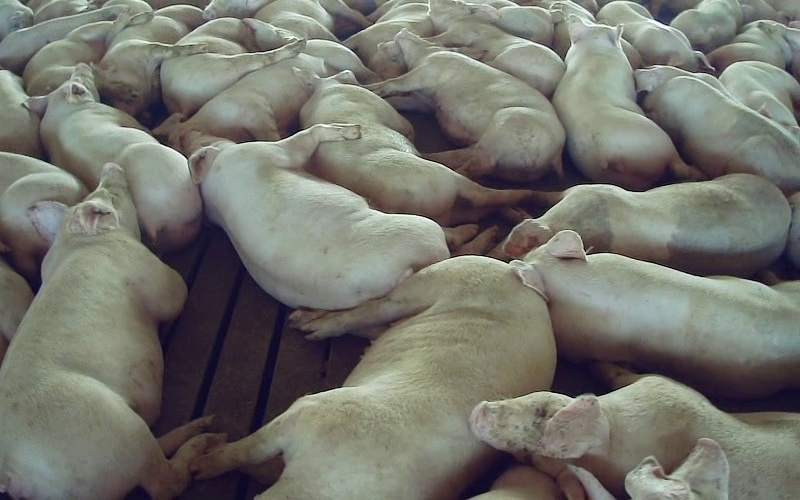pig: (195, 256, 555, 499), (0, 163, 224, 499), (512, 231, 799, 397), (470, 362, 799, 499), (294, 70, 535, 225), (30, 64, 201, 252), (491, 174, 790, 276), (552, 16, 703, 190), (154, 40, 373, 147), (635, 66, 799, 193), (429, 0, 565, 96), (95, 5, 205, 117), (596, 0, 714, 73), (23, 21, 114, 95), (719, 61, 799, 141), (245, 0, 369, 50), (707, 23, 785, 72)
